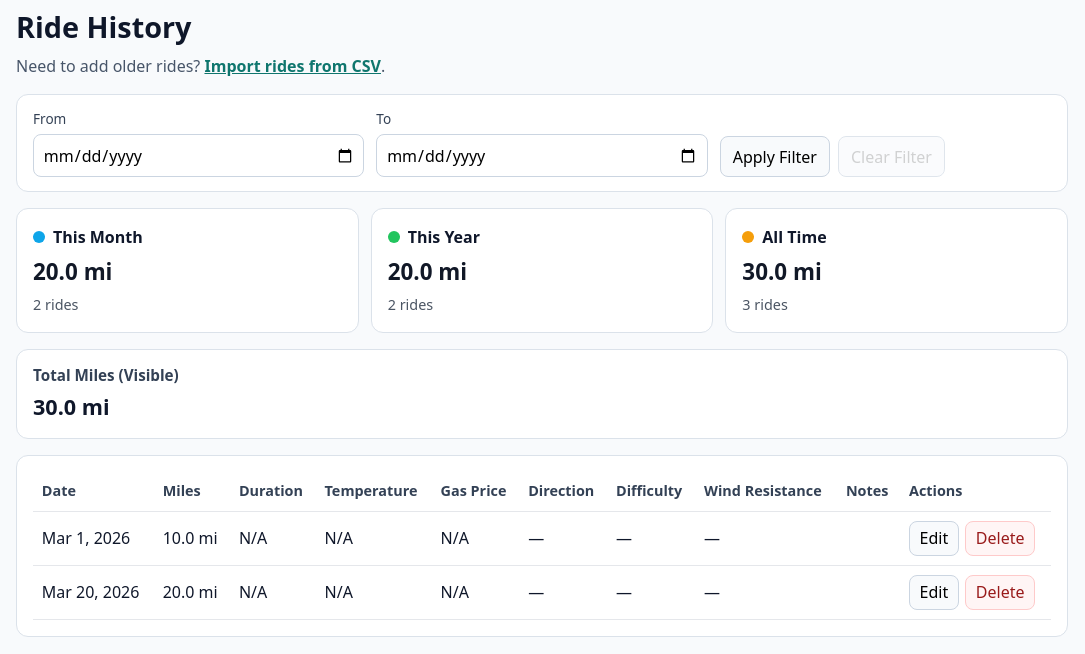
Scenario: HistoryPage › should apply date filters and render filtered total
Type "2026-03-15" into the date field labelled "From" at coordinates (199, 156), box [33,134,364,177]
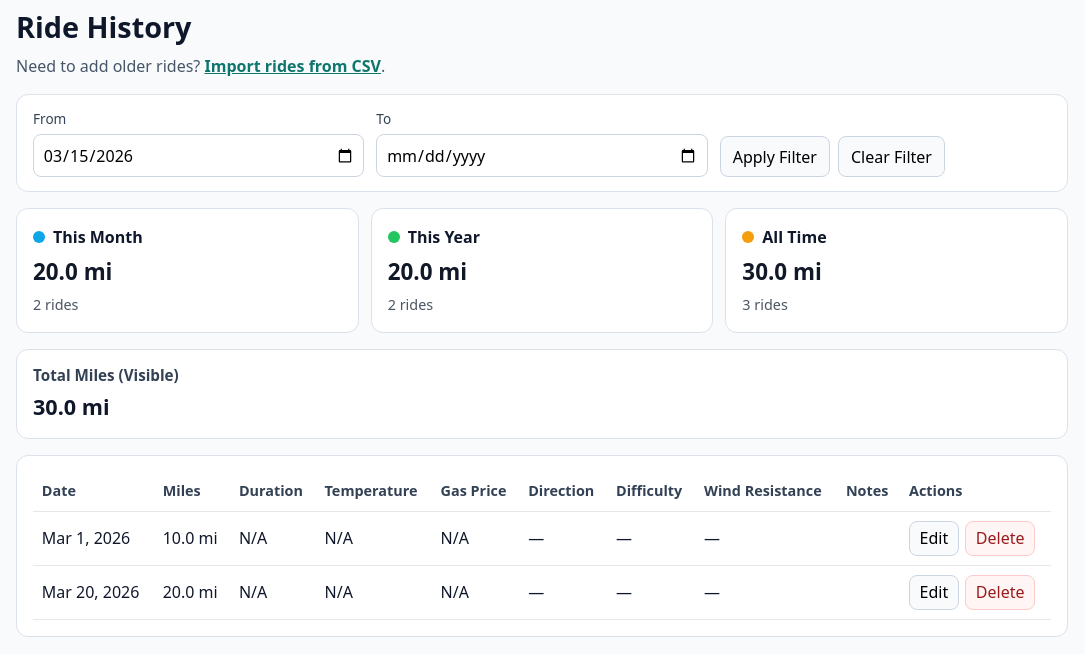
Type "2026-03-31" into the date field labelled "To" at coordinates (542, 156), box [376,134,708,177]
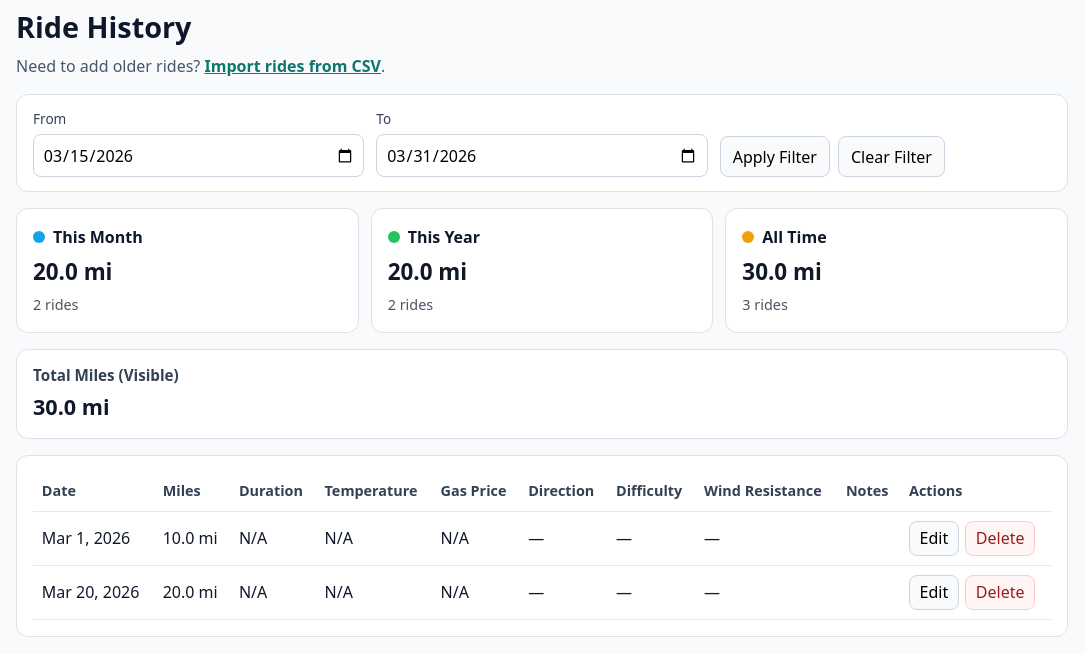
Click the button "Apply Filter" at coordinates (775, 157), box [720,136,830,177]
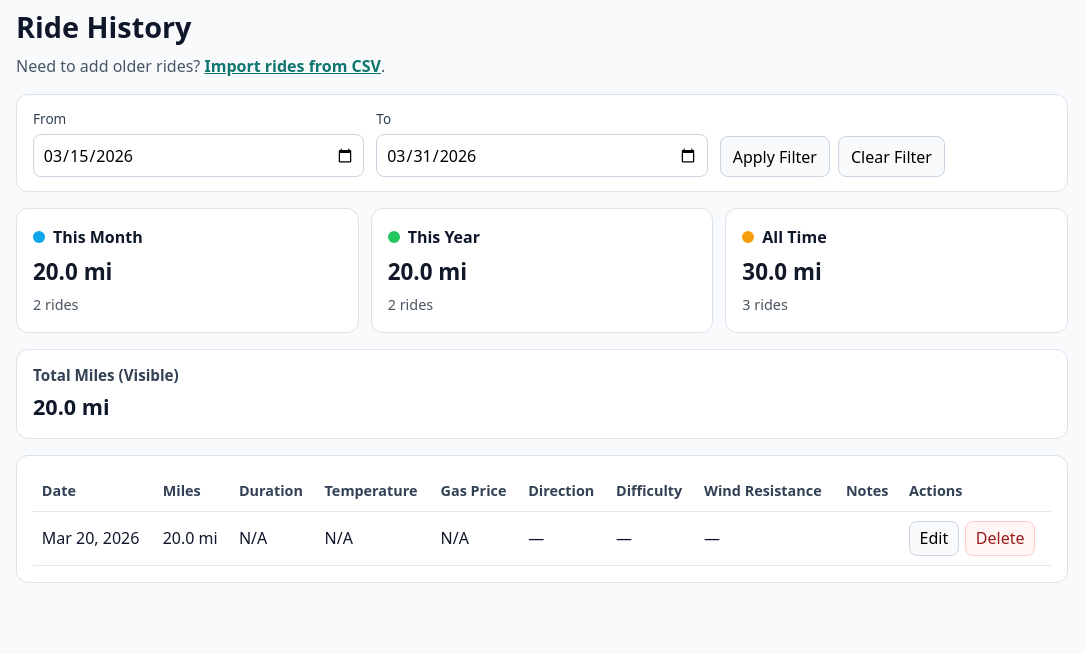
Expected: the text "20.0 mi" below "Total Miles (Visible)" is shown, [33,392,110,421]
